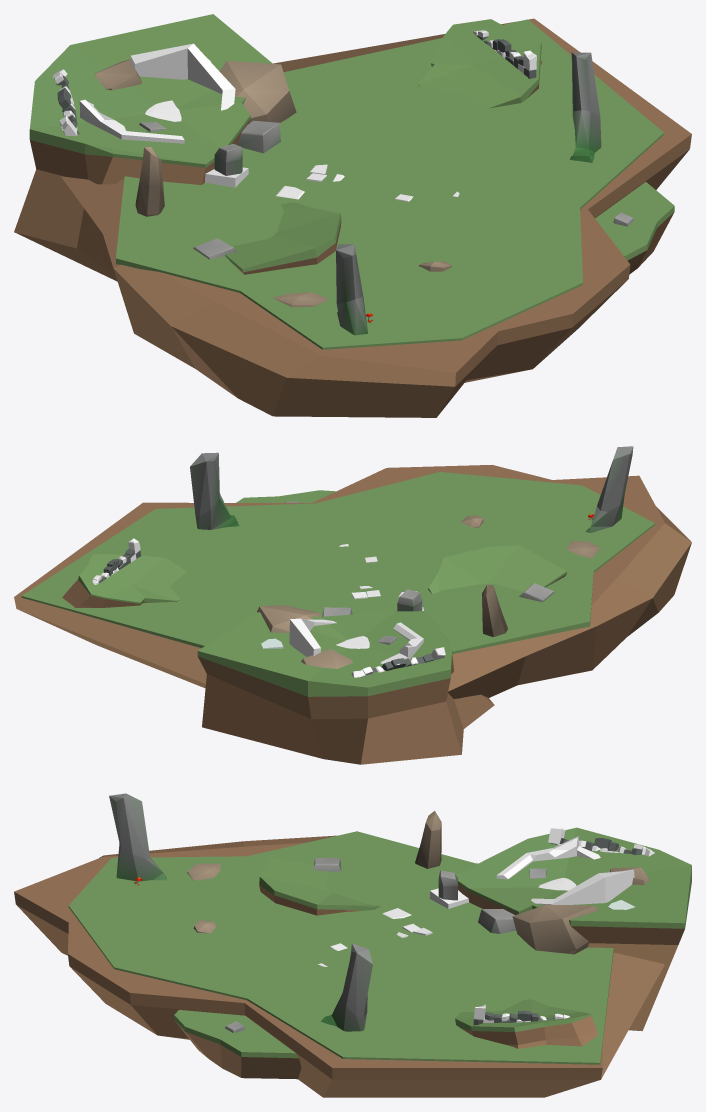
File: SM_00 Ruins b.fbx
The picture shows the model from 3 angles, top to bottom: view 1: azimuth 30°, elevation 25°; view 2: azimuth 150°, elevation 25°; view 3: azimuth 270°, elevation 25°; orthographic projection. The views are drawn at different scales.
Visible parts, largest first — view 1: Island03.001, towerRuins.001, Rock.005, Dolmen.003, Dolmen.002, Rock.001, Stone_06.002, Stone_06.008, WALL02.002, Rock.003, WALL02.001, FloorStone.001; view 2: Island03.001, Dolmen.003, towerRuins.001, Dolmen.002, Rock.005, Rock.001, WALL02.001, WALL02.002, Rock.003, Stone_06.002; view 3: Island03.001, towerRuins.001, Dolmen.002, Rock.005, Dolmen.003, Rock.001, WALL02.001, Stone_06.002, WALL02.002, Stone_06.008, FloorStone.001, Rock.004.
Boxes of the visible parts, left/top/right/bottom form: Island03.001: left=14, top=14, right=691, bottom=417; towerRuins.001: left=79, top=43, right=235, bottom=143; Rock.005: left=219, top=60, right=296, bottom=122; Dolmen.003: left=570, top=52, right=601, bottom=162; Dolmen.002: left=336, top=244, right=367, bottom=335; Rock.001: left=135, top=147, right=164, bottom=216; Stone_06.002: left=205, top=143, right=248, bottom=187; Stone_06.008: left=238, top=120, right=280, bottom=153; WALL02.002: left=473, top=30, right=536, bottom=78; Rock.003: left=95, top=59, right=142, bottom=90; WALL02.001: left=53, top=69, right=79, bottom=135; FloorStone.001: left=276, top=164, right=459, bottom=201; Island03.001: left=14, top=465, right=691, bottom=764; Dolmen.003: left=190, top=452, right=239, bottom=529; towerRuins.001: left=289, top=618, right=423, bottom=663; Dolmen.002: left=585, top=446, right=633, bottom=532; Rock.005: left=257, top=605, right=321, bottom=632; Rock.001: left=482, top=584, right=507, bottom=636; WALL02.001: left=351, top=647, right=445, bottom=677; WALL02.002: left=92, top=538, right=141, bottom=584; Rock.003: left=301, top=649, right=352, bottom=668; Stone_06.002: left=397, top=589, right=423, bottom=611; Island03.001: left=14, top=827, right=691, bottom=1097; towerRuins.001: left=496, top=836, right=634, bottom=904; Dolmen.002: left=109, top=793, right=166, bottom=881; Rock.005: left=512, top=904, right=598, bottom=954; Dolmen.003: left=321, top=943, right=372, bottom=1031; Rock.001: left=415, top=811, right=441, bottom=868; WALL02.001: left=548, top=828, right=654, bottom=856; Stone_06.002: left=429, top=870, right=468, bottom=908; WALL02.002: left=473, top=1004, right=569, bottom=1025; Stone_06.008: left=478, top=909, right=515, bottom=933; FloorStone.001: left=318, top=908, right=432, bottom=966; Rock.004: left=187, top=863, right=220, bottom=880.
Size of the model in its own units: 1204 by 518 by 1441.
